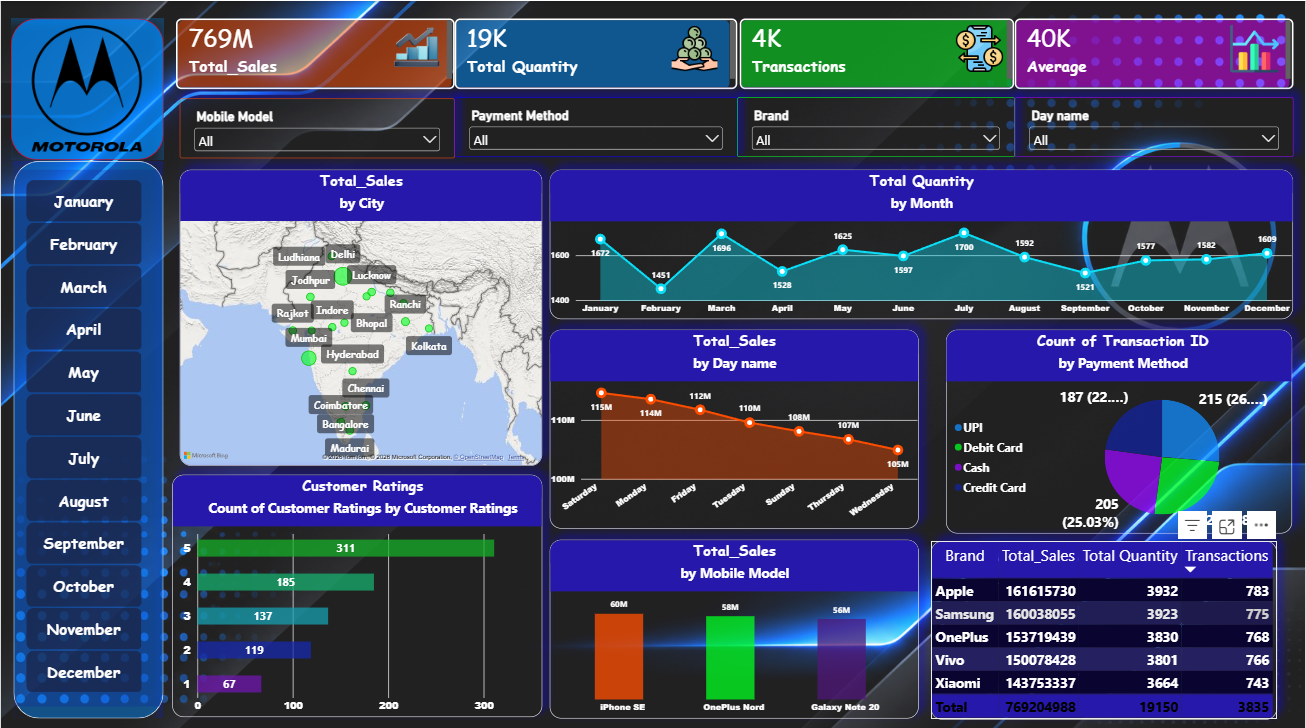

The dashboard page shown, as its layout file describes it:
{"tool":"powerbi","page":{"name":"Page 1","canvas":[1920,1080],"ordinal":0},"visuals":[{"type":"cardVisual","fields":{"Data":["Sales_Data.Total_Sales"]},"box":[258,26,410,104],"z":0},{"type":"shape","box":[14,26,224.5,208],"z":1000},{"type":"image","box":[14,34,222.7,191.4],"z":2000},{"type":"cardVisual","fields":{"Data":["Sales_Data.Total Quantity"]},"box":[668,26,416,104],"z":3000},{"type":"cardVisual","fields":{"Data":["Sales_Data.Transactions"]},"box":[1088,26,404,104],"z":4000},{"type":"cardVisual","fields":{"Data":["Sales_Data.Average"]},"box":[1492,26,410,104],"z":5000},{"type":"shape","box":[18.4,235.6,220.9,820.9],"z":6000},{"type":"map","fields":{"Category":["Sales_Data.City"],"Size":["Sales_Data.Total_Sales"]},"box":[263.2,248.5,533.7,436.2],"z":7000},{"type":"lineChart","fields":{"Category":["Sales_Data.Date.Variation.Date Hierarchy.Month","Sales_Data.Date.Variation.Date Hierarchy.Day"],"Y":["Sales_Data.Total Quantity"]},"box":[808,248,1094,220],"z":8000},{"type":"areaChart","fields":{"Category":["Sales_Data.Day name"],"Y":["Sales_Data.Total_Sales"]},"box":[808,484,542.9,292.6],"z":9000},{"type":"pieChart","fields":{"Category":["Sales_Data.Payment Method"],"Y":["CountNonNull(Sales_Data.Transaction ID)"]},"box":[1391.4,484.1,509.8,300],"z":10000},{"type":"barChart","title":"Customer Ratings","fields":{"Category":["Sales_Data.Customer Ratings"],"Y":["CountNonNull(Sales_Data.Customer Ratings)"]},"box":[252,698,544.8,357.1],"z":11000},{"type":"columnChart","fields":{"Category":["Sales_Data.Mobile Model"],"Y":["Sales_Data.Total_Sales"]},"box":[808,794,542.9,263.2],"z":12000},{"type":"tableEx","fields":{"Values":["Sales_Data.Brand","Sales_Data.Total_Sales","Sales_Data.Total Quantity","Sales_Data.Transactions"]},"box":[1370,796,509.8,263.2],"z":13000},{"type":"slicer","fields":{"Values":["Sales_Data.Mobile Model"]},"box":[264,144,404.9,88.3],"z":14000},{"type":"slicer","fields":{"Values":["Sales_Data.Payment Method"]},"box":[668,142,416,88.3],"z":15000},{"type":"slicer","fields":{"Values":["Sales_Data.Brand"]},"box":[1084,142,408.6,88.3],"z":16000},{"type":"slicer","fields":{"Values":["Sales_Data.Day name"]},"box":[1492,142,410.4,88.3],"z":17000},{"type":"listSlicer","fields":{"Values":["Sales_Data.Date.Variation.Date Hierarchy.Month"]},"box":[20,248,216,790],"z":18000}]}

Visuals, with their boxes in screenshot pixels (x1, y1, x2, y2), scaled from the page's 1920x1080 canvas onto the 1306x728 screenshot:
cardVisual - Sales_Data.Total_Sales: (x1=175, y1=18, x2=454, y2=88)
shape: (x1=10, y1=18, x2=162, y2=158)
image: (x1=10, y1=23, x2=161, y2=152)
cardVisual - Sales_Data.Total Quantity: (x1=454, y1=18, x2=737, y2=88)
cardVisual - Sales_Data.Transactions: (x1=740, y1=18, x2=1015, y2=88)
cardVisual - Sales_Data.Average: (x1=1015, y1=18, x2=1294, y2=88)
shape: (x1=13, y1=159, x2=163, y2=712)
map - Sales_Data.City x Sales_Data.Total_Sales: (x1=179, y1=168, x2=542, y2=462)
lineChart - Sales_Data.Date.Variation.Date Hierarchy.Month x Sales_Data.Date.Variation.Date Hierarchy.Day: (x1=550, y1=167, x2=1294, y2=315)
areaChart - Sales_Data.Day name x Sales_Data.Total_Sales: (x1=550, y1=326, x2=919, y2=523)
pieChart - Sales_Data.Payment Method x CountNonNull(Sales_Data.Transaction ID): (x1=946, y1=326, x2=1293, y2=529)
"Customer Ratings" barChart: (x1=171, y1=471, x2=542, y2=711)
columnChart - Sales_Data.Mobile Model x Sales_Data.Total_Sales: (x1=550, y1=535, x2=919, y2=713)
tableEx - Sales_Data.Brand x Sales_Data.Total_Sales: (x1=932, y1=537, x2=1279, y2=714)
slicer - Sales_Data.Mobile Model: (x1=180, y1=97, x2=455, y2=157)
slicer - Sales_Data.Payment Method: (x1=454, y1=96, x2=737, y2=155)
slicer - Sales_Data.Brand: (x1=737, y1=96, x2=1015, y2=155)
slicer - Sales_Data.Day name: (x1=1015, y1=96, x2=1294, y2=155)
listSlicer - Sales_Data.Date.Variation.Date Hierarchy.Month: (x1=14, y1=167, x2=161, y2=700)
